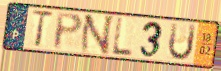3: (138, 19, 168, 60)
L: (110, 16, 134, 58)
N: (78, 14, 117, 57)
P: (53, 12, 85, 52)
T: (30, 9, 55, 49)
U: (166, 21, 198, 62)
